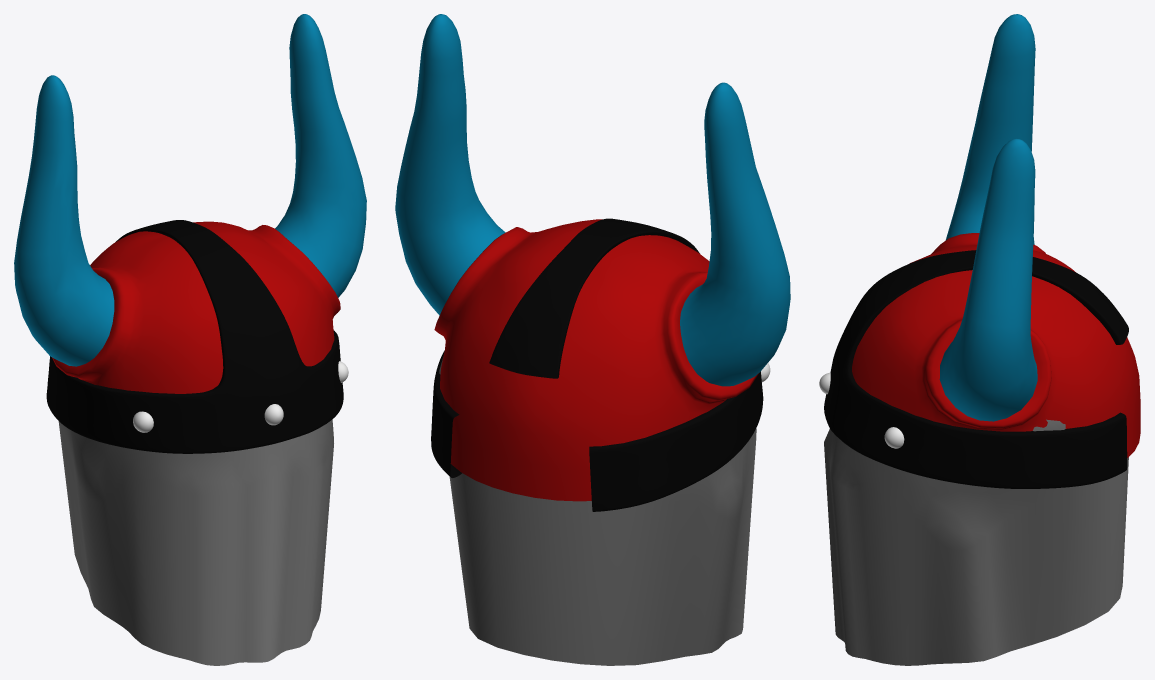
Rendered from viking_helmet.fbx.
3 renders of one model, left to right at view 1: azimuth 30°, elevation 25°; view 2: azimuth 150°, elevation 25°; view 3: azimuth 270°, elevation 25°, orthographic. The views are drawn at different scales.
Visible parts, largest first — view 1: occ_head, horns, metal_plate, base, screws; view 2: base, occ_head, horns, metal_plate; view 3: occ_head, horns, base, metal_plate, screws.
Boxes of the visible parts, x1,y1,x2,y2 form: occ_head: [58, 419, 333, 665]; horns: [14, 14, 366, 366]; metal_plate: [46, 220, 343, 453]; base: [52, 221, 340, 393]; screws: [133, 361, 348, 432]; base: [434, 219, 758, 501]; occ_head: [439, 357, 756, 665]; horns: [395, 14, 790, 386]; metal_plate: [431, 218, 763, 511]; occ_head: [824, 419, 1128, 665]; horns: [939, 14, 1037, 421]; base: [852, 233, 1140, 457]; metal_plate: [824, 250, 1128, 488]; screws: [819, 372, 904, 448].
Bounding box in the file's own units: 27.19 × 41.69 × 21.75.
